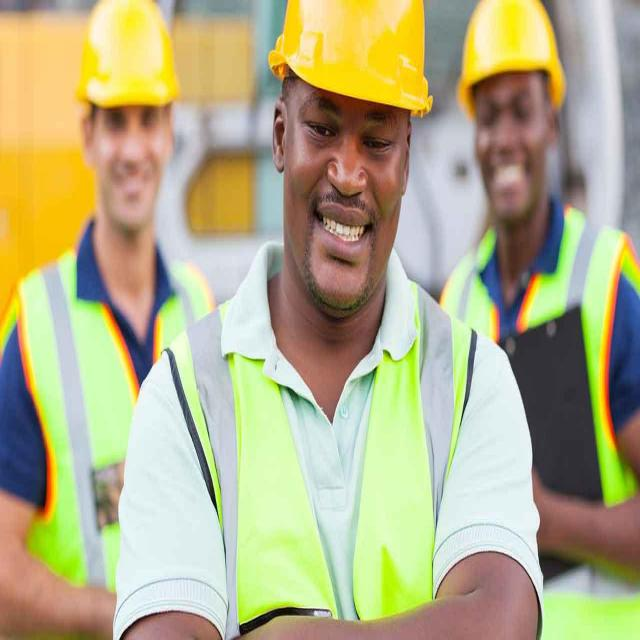Reflective-Jacket: (163, 294, 488, 628), (432, 205, 640, 638), (11, 256, 206, 596)
Safety-Helmet: (265, 1, 435, 116), (72, 1, 184, 117), (456, 2, 568, 110)
